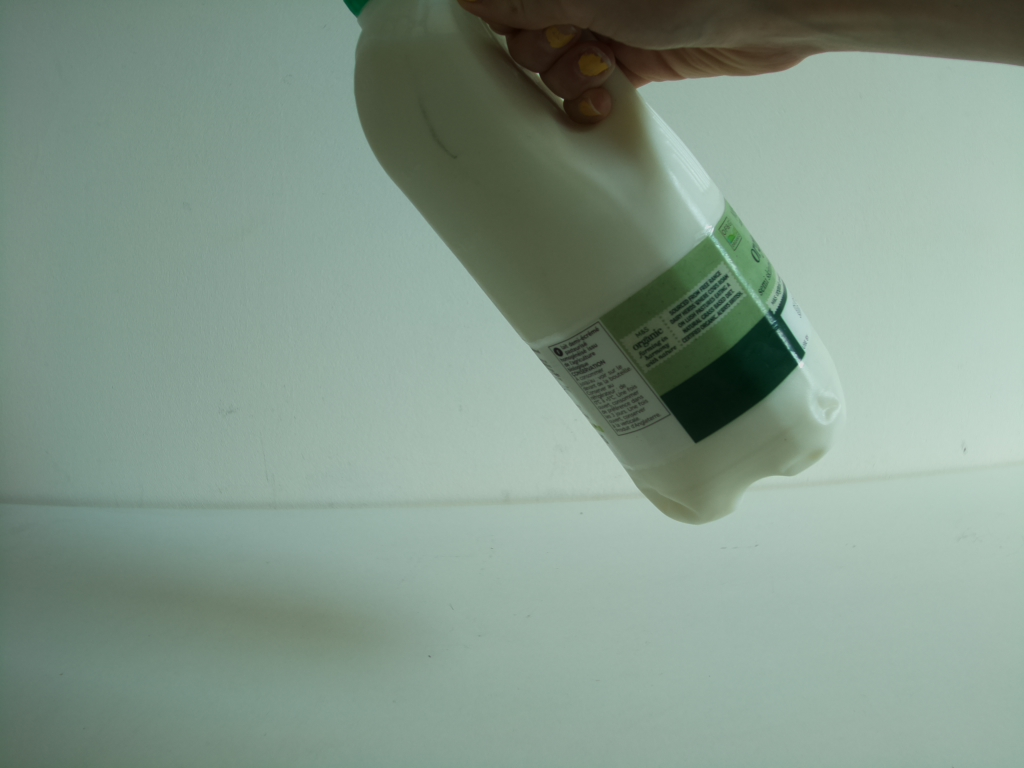milk: (342, 1, 854, 533)
